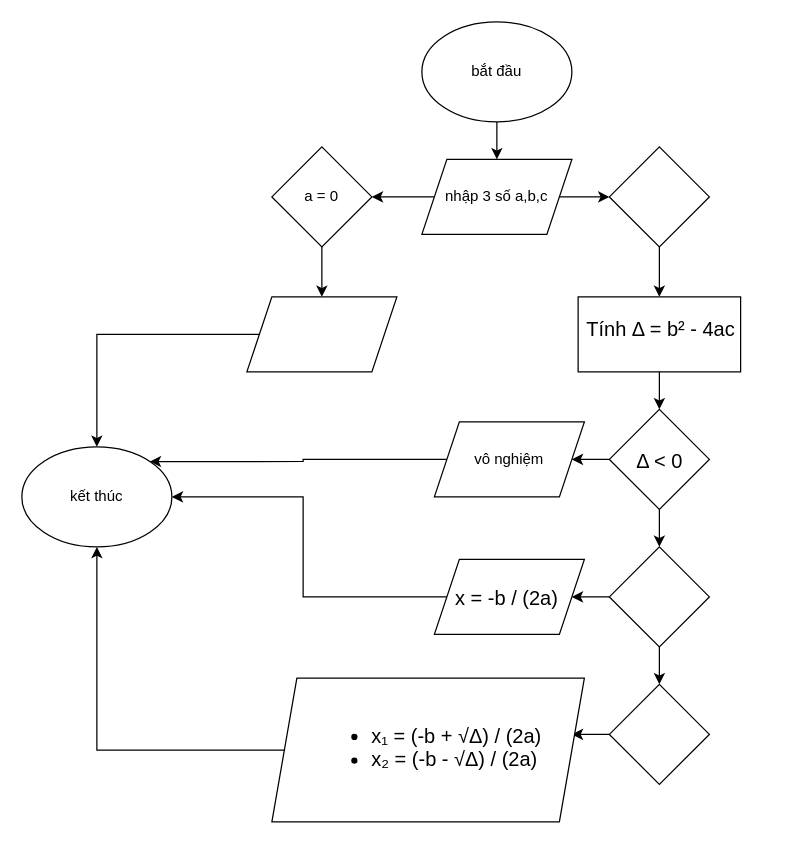
The diagram is 794 pixels wide and 844 high, and some of its shapes have lost their labels. Each missing label, with the centre of its shape:
a khác 0: the point at 658,196
giải pt bậc nhất: the point at 321,334
Δ = 0: the point at 658,596
Δ > 0: the point at 658,733
